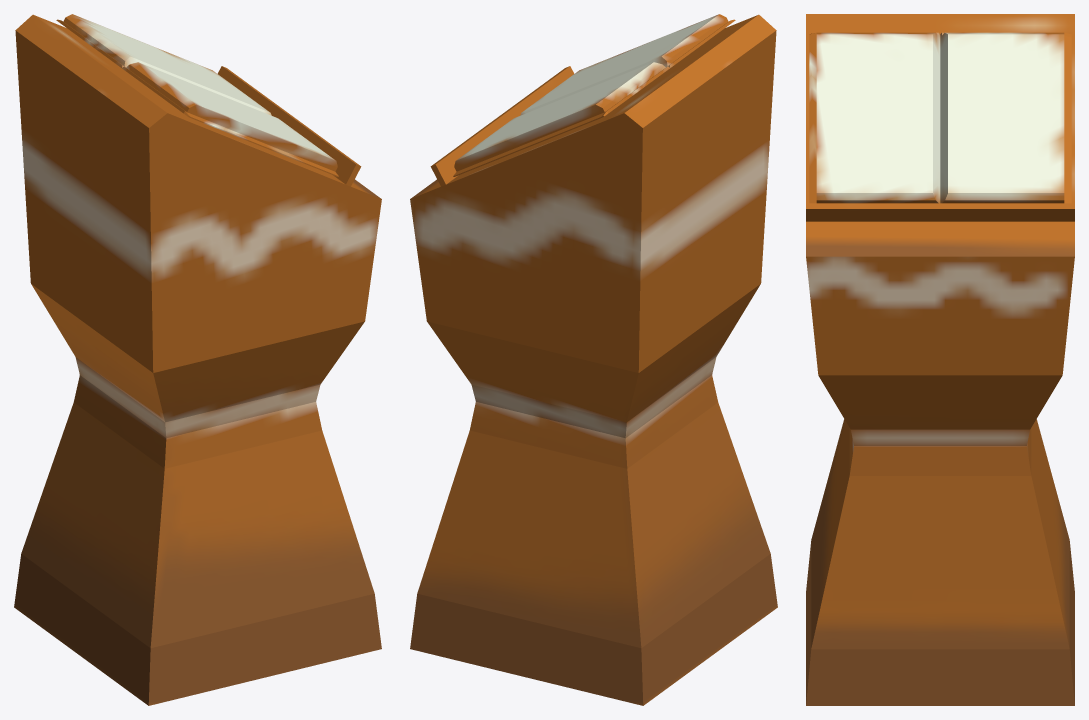
File: lectern.fbx
3 views of the same model, side by side, from view 1: azimuth 30°, elevation 25°; view 2: azimuth 150°, elevation 25°; view 3: azimuth 270°, elevation 25° (orthographic).
Parts seen in each view (by area): view 1: lectern; view 2: lectern; view 3: lectern.
Boxes of the visible parts, <box> form: lectern: <box>14,14,381,705</box>; lectern: <box>410,14,777,705</box>; lectern: <box>806,14,1074,705</box>.
Size of the model in its own units: 200 by 482 by 200.
Materials: 1 (1 with a texture image).
